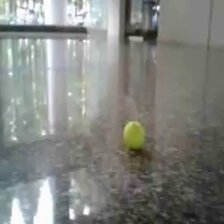tennis: (123, 121, 146, 149)
